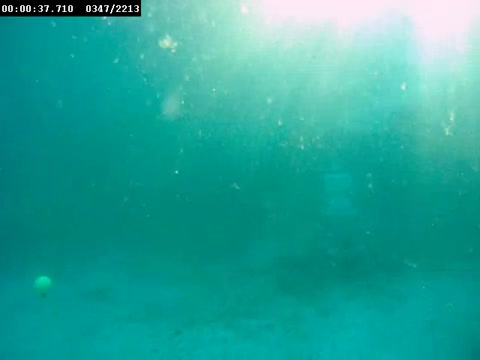buoy_green: (32, 273, 51, 302)
